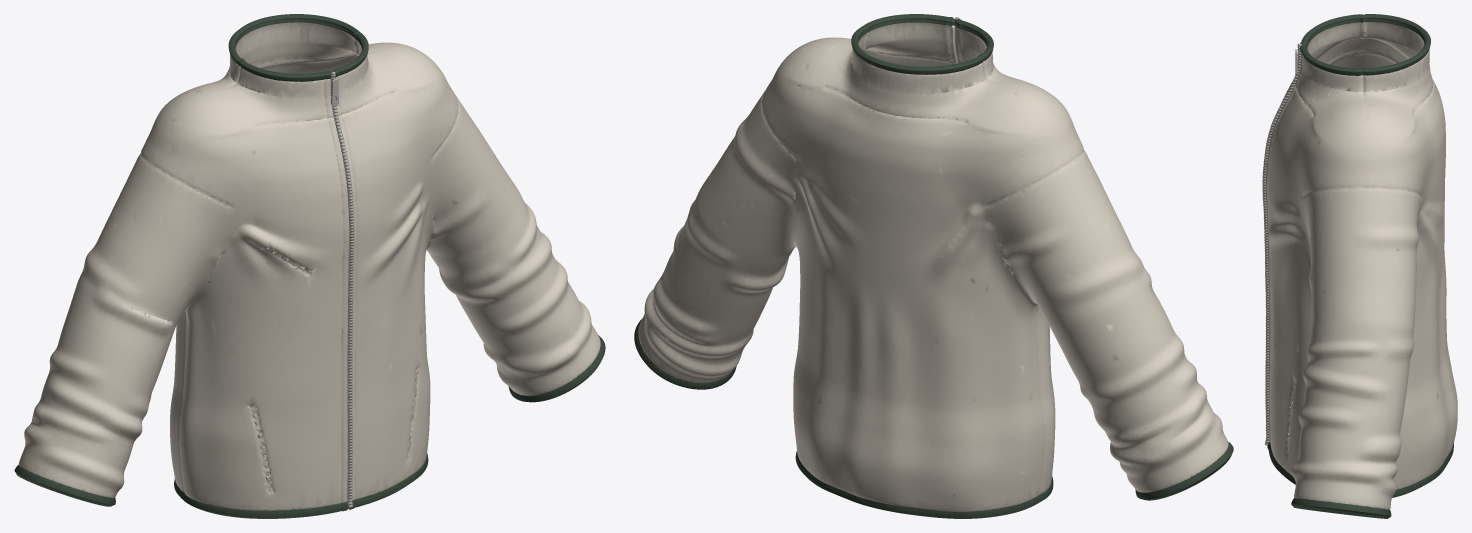
Rendered from 10_forro_polar_pbr.glb.
3 views of the same model, side by side, from view 1: azimuth 30°, elevation 25°; view 2: azimuth 150°, elevation 25°; view 3: azimuth 270°, elevation 25° (orthographic). The views are drawn at different scales.
Parts seen in each view (by area): view 1: Camiseta PBR, Cordones y adornos, Cremallera; view 2: Camiseta PBR, Cordones y adornos; view 3: Camiseta PBR, Cordones y adornos, Cremallera.
Part boxes in pixels (bbox=[...]): Camiseta PBR: bbox=[18, 22, 600, 510]; Cordones y adornos: bbox=[14, 14, 605, 518]; Cremallera: bbox=[330, 71, 354, 507]; Camiseta PBR: bbox=[638, 22, 1228, 511]; Cordones y adornos: bbox=[634, 14, 1233, 518]; Camiseta PBR: bbox=[1265, 22, 1457, 509]; Cordones y adornos: bbox=[1267, 14, 1453, 518]; Cremallera: bbox=[1262, 43, 1301, 445].
Bounding box in the file's own units: 1.07 × 0.7647 × 0.3305.
3 materials, 1 textured.
